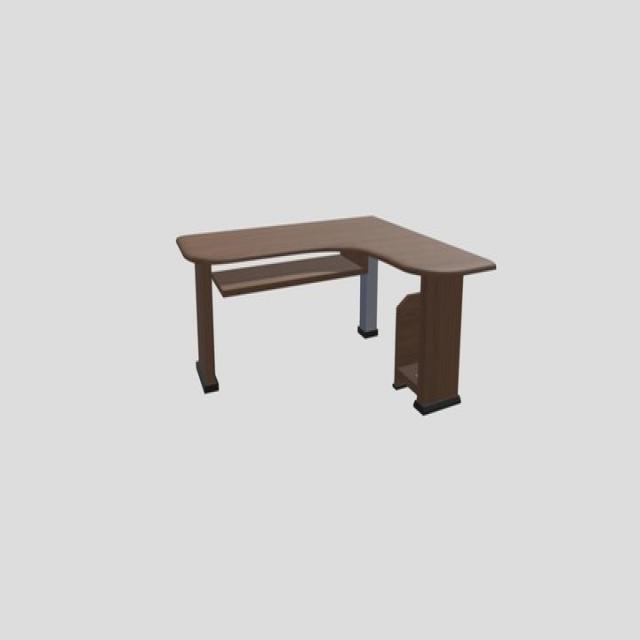table: (174, 216, 496, 418)
